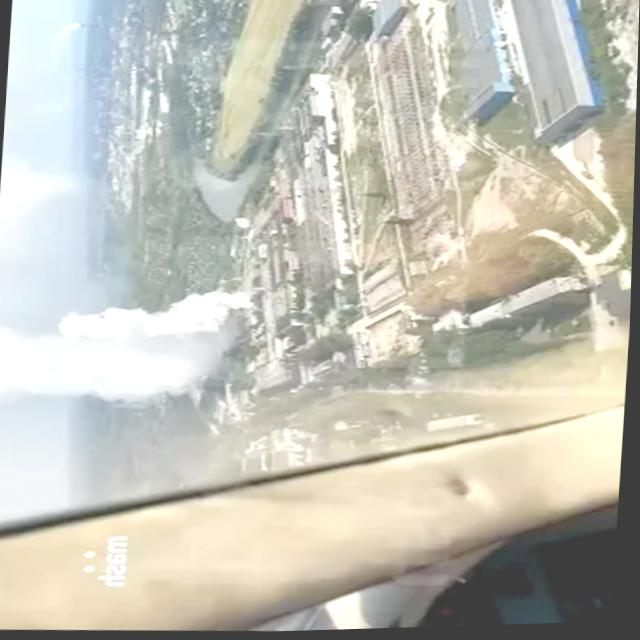no_helmet: (0, 284, 252, 421)
